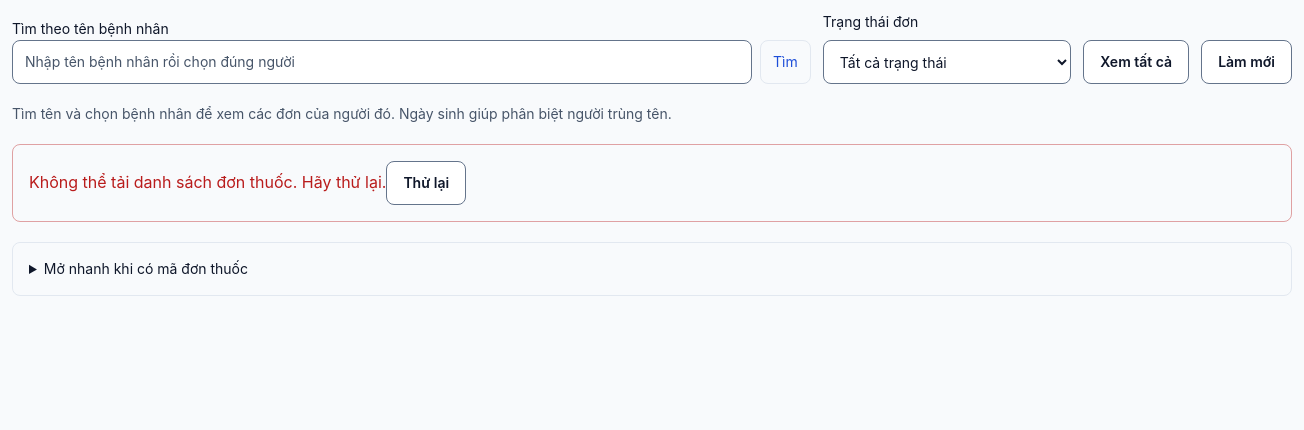
Test: prescription list › does not display failed reads as an empty list and can retry
Expected: the message shows "Không thể tải", top-left (29, 172), bottom-right (386, 192)
Click the button "Thử lại" at {"x": 426, "y": 183}, box top-left (386, 161), bottom-right (466, 205)
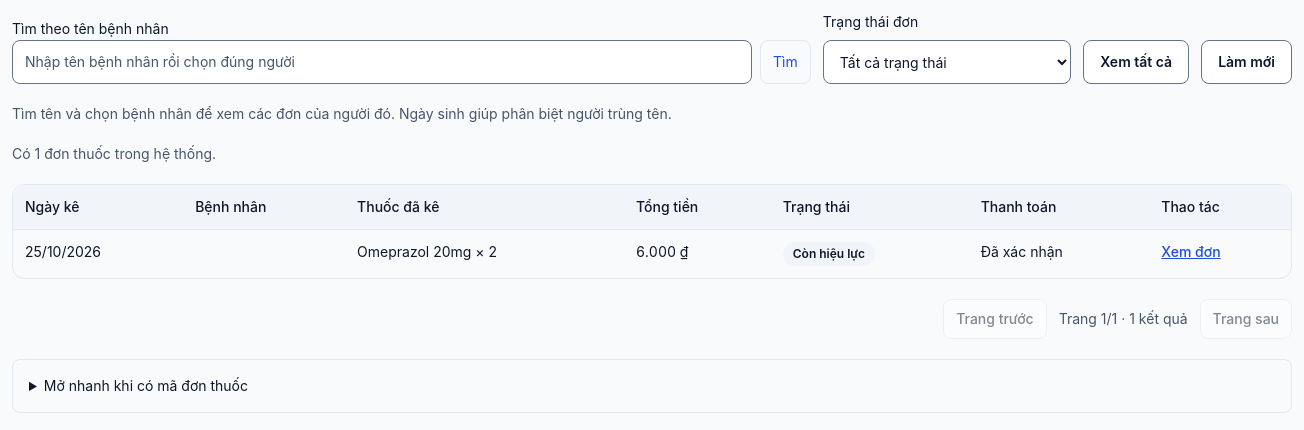
Result: the link "Xem đơn" is shown at top-left (1161, 243), bottom-right (1221, 260)
